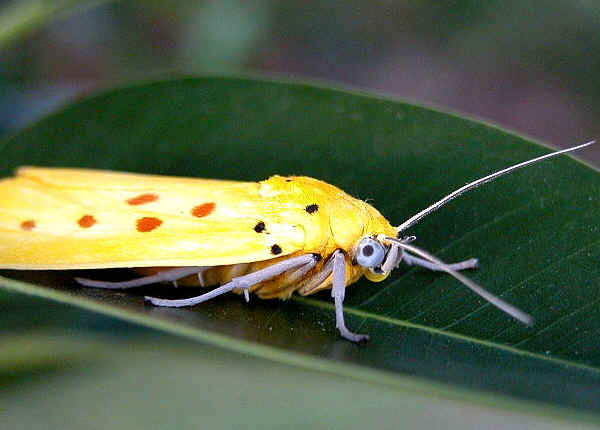Agape chloropyga: (1, 133, 593, 343)
moth: (2, 135, 595, 345)
